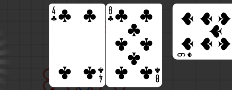4C: (51, 6, 58, 23)
9C: (177, 52, 194, 59)
